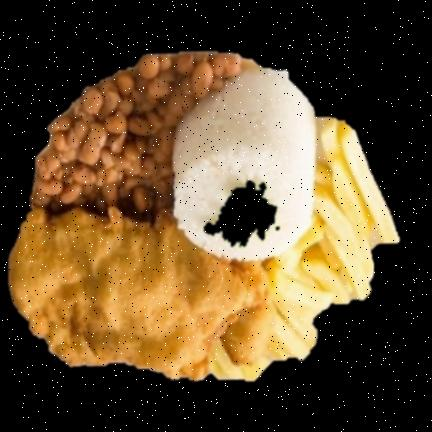beans: (34, 55, 241, 216)
chicken: (9, 207, 275, 380)
potato: (242, 119, 399, 380)
rice: (174, 69, 317, 260)
